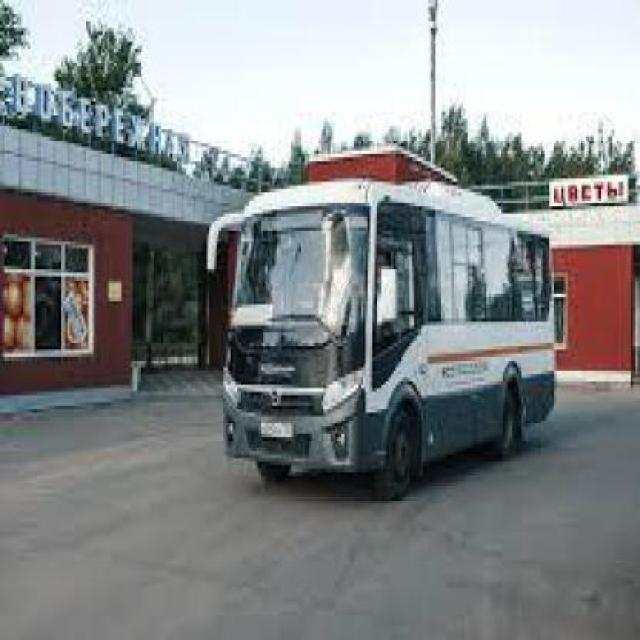bus: (205, 175, 559, 500)
